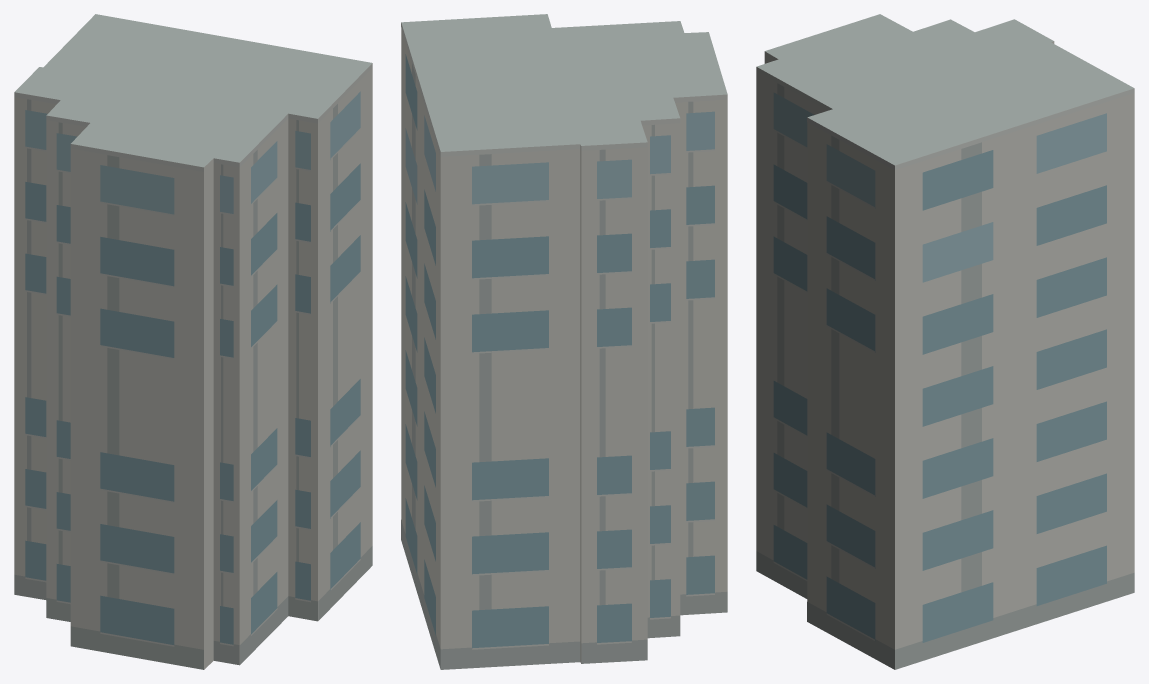
Rendered from survey-upis-33037436.glb.
The picture shows the model from 3 angles, left to right: view 1: azimuth 30°, elevation 25°; view 2: azimuth 150°, elevation 25°; view 3: azimuth 270°, elevation 25°; orthographic projection. The views are drawn at different scales.
Parts seen in each view (by area): view 1: survey-upis-33037436.tmp; view 2: survey-upis-33037436.tmp; view 3: survey-upis-33037436.tmp.
Part boxes in pixels (box(x1,y1,x2,y2)): survey-upis-33037436.tmp: box(14, 14, 372, 669); survey-upis-33037436.tmp: box(401, 14, 727, 669); survey-upis-33037436.tmp: box(756, 14, 1134, 669).
Bounding box in the file's own units: 16.5 × 25.6 × 17.41.
